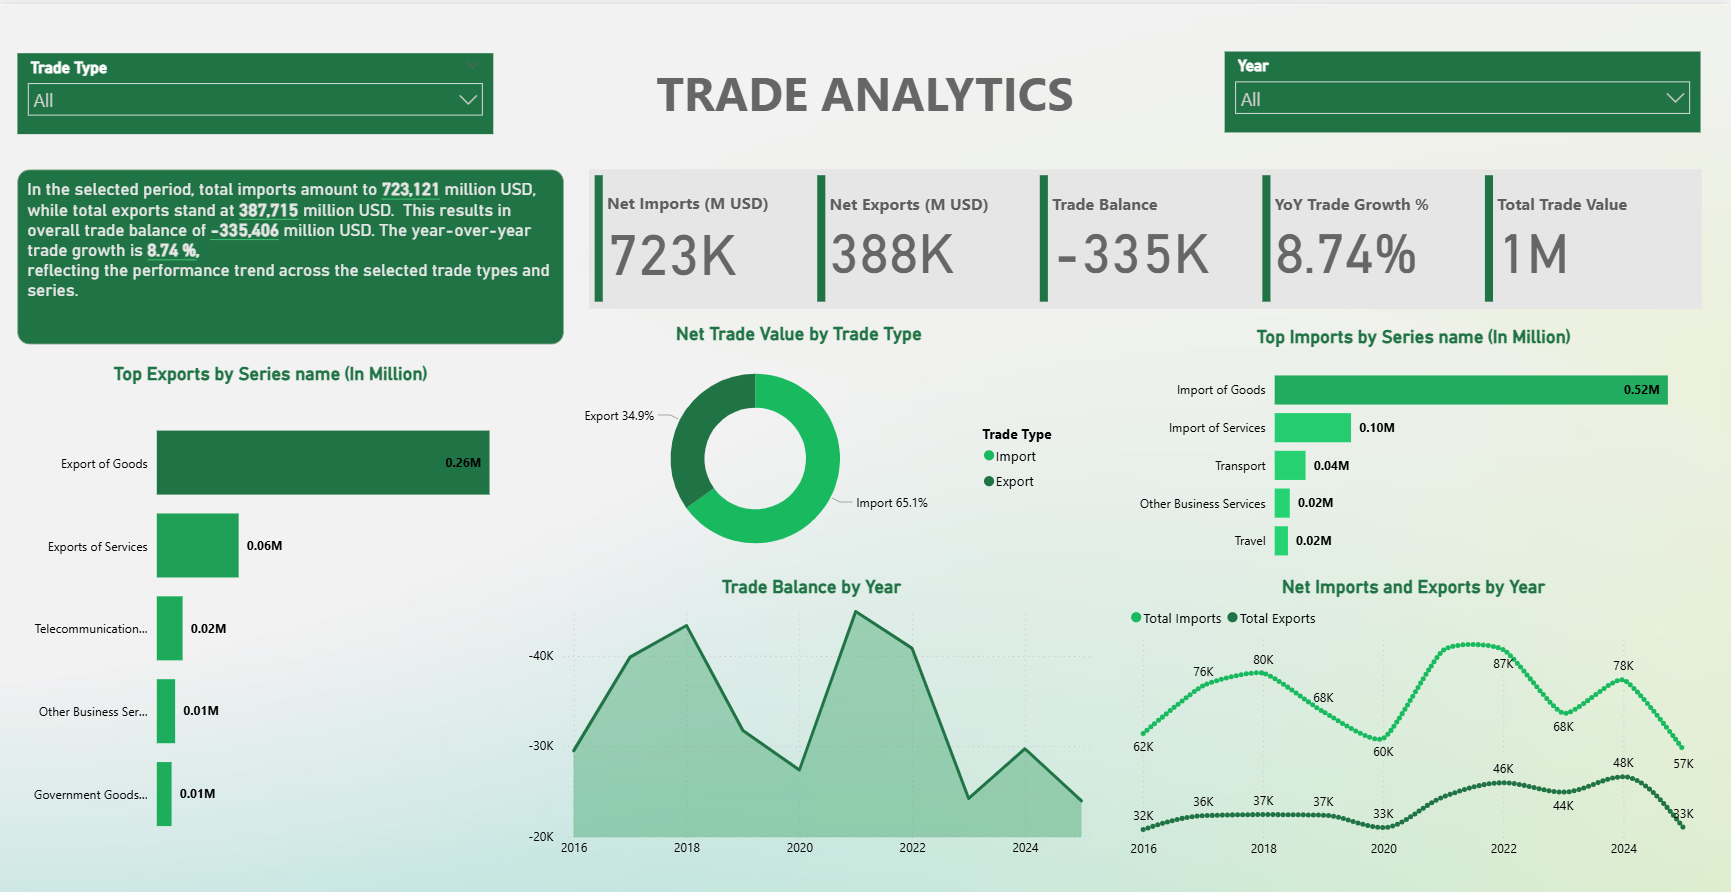

This screenshot's page, from the dashboard's own definition file:
{"tool":"powerbi","page":{"name":"TRADE ANALYTICS","canvas":[1720,880],"ordinal":1},"visuals":[{"type":"cardVisual","fields":{"Data":["Dim_Date.Total Imports"]},"box":[587.5,162.5,220,137.5],"z":0},{"type":"cardVisual","fields":{"Data":["Dim_Date.Total Exports"]},"box":[807.5,162.5,220,137.5],"z":1000},{"type":"cardVisual","fields":{"Data":["Dim_Date.Trade Balance"]},"box":[1027.5,162.5,220,137.5],"z":2000},{"type":"cardVisual","fields":{"Data":["Dim_Date.YoY Trade Growth %"]},"box":[1247.5,162.5,220,137.5],"z":3000},{"type":"lineChart","title":"Net Imports and Exports by Year","fields":{"Category":["Dim_Date.Year"],"Y":["Dim_Date.Total Imports","Dim_Date.Total Exports"]},"box":[1117.5,565,570,287.5],"z":4000},{"type":"stackedAreaChart","fields":{"Category":["Dim_Date.Year"],"Y":["Dim_Date.Trade Balance"]},"box":[522.5,565,570,287.5],"z":5000},{"type":"donutChart","title":"Net Trade Value by Trade Type","fields":{"Category":["Fact_Trade.Trade Type"],"Y":["Dim_Date.Total Trade Value"]},"box":[522.5,315,545,247.5],"z":6000},{"type":"clusteredBarChart","title":"Top Imports by Series name (In Million)","fields":{"Category":["Fact_Trade.Series Display Name"],"Y":["Dim_Date.Total Imports"]},"box":[1117.5,317.5,570,247.5],"z":7000},{"type":"clusteredBarChart","title":"Top Exports by Series name (In Million)","fields":{"Category":["Fact_Trade.Series Display Name"],"Y":["Dim_Date.Total Exports"]},"box":[22.5,355,500,497.5],"z":8000},{"type":"slicer","fields":{"Values":["Fact_Trade.Trade Type"]},"box":[22.5,47.5,470,80],"z":9000},{"type":"shape","box":[605,20,512.5,132.5],"z":10000},{"type":"textbox","box":[22.5,162.5,540,172.5],"z":11000},{"type":"slicer","fields":{"Values":["Dim_Date.Year"]},"box":[1216.7,46.7,470,80],"z":12000},{"type":"cardVisual","fields":{"Data":["Dim_Date.Total Trade Value"]},"box":[1467.5,162.5,220,137.5],"z":13000}]}

Visuals, with their boxes in screenshot pixels (x1, y1, x2, y2), scaled from the page's 1720x880 canvas onto the 1731x892 screenshot:
cardVisual - Dim_Date.Total Imports: x1=591, y1=165, x2=813, y2=304
cardVisual - Dim_Date.Total Exports: x1=813, y1=165, x2=1034, y2=304
cardVisual - Dim_Date.Trade Balance: x1=1034, y1=165, x2=1255, y2=304
cardVisual - Dim_Date.YoY Trade Growth %: x1=1255, y1=165, x2=1477, y2=304
"Net Imports and Exports by Year" lineChart: x1=1125, y1=573, x2=1698, y2=864
stackedAreaChart - Dim_Date.Year x Dim_Date.Trade Balance: x1=526, y1=573, x2=1099, y2=864
"Net Trade Value by Trade Type" donutChart: x1=526, y1=319, x2=1074, y2=570
"Top Imports by Series name (In Million)" clusteredBarChart: x1=1125, y1=322, x2=1698, y2=573
"Top Exports by Series name (In Million)" clusteredBarChart: x1=23, y1=360, x2=526, y2=864
slicer - Fact_Trade.Trade Type: x1=23, y1=48, x2=496, y2=129
shape: x1=609, y1=20, x2=1125, y2=155
textbox: x1=23, y1=165, x2=566, y2=340
slicer - Dim_Date.Year: x1=1224, y1=47, x2=1697, y2=128
cardVisual - Dim_Date.Total Trade Value: x1=1477, y1=165, x2=1698, y2=304
